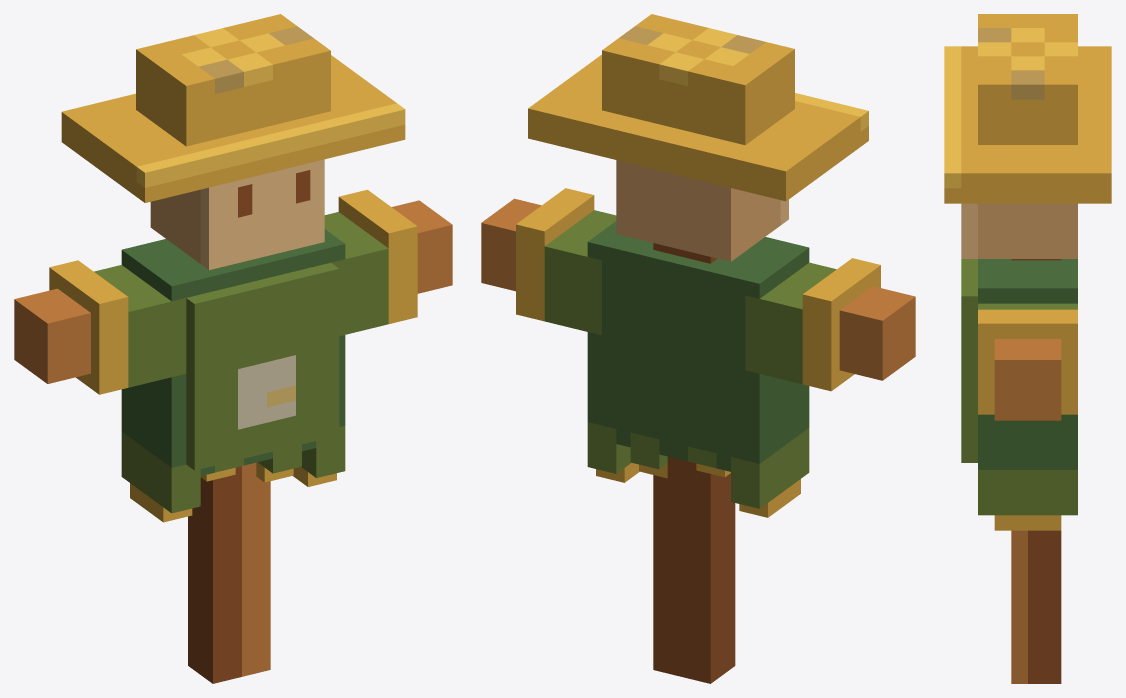
Rendered from Scarecrow_1x1.fbx.
3 views of the same model, side by side, from view 1: azimuth 30°, elevation 25°; view 2: azimuth 150°, elevation 25°; view 3: azimuth 270°, elevation 25° (orthographic).
Visible parts, largest first — view 1: shirt_front, wide_straw_hat, green_shirt, sleeve_cuffs, single_pole, straw_hat_pixels, square_face, wooden_hands, hat_crown, hat_brim_sun, ragged_hem, left_sleeve (+6 smaller); view 2: green_shirt, wide_straw_hat, single_pole, square_head, sleeve_cuffs, straw_hat_pixels, wooden_hands, hat_crown, ragged_hem, left_sleeve, right_sleeve, straw_hem (+1 smaller); view 3: wide_straw_hat, green_shirt, straw_hat_pixels, square_head, sleeve_cuffs, wooden_hands, single_pole, hat_crown, ragged_hem, shirt_front, pole_sun, hat_brim_sun (+3 smaller).
Boxes of the visible parts, x1,y1,x2,y2 form: shirt_front: (186, 262, 339, 470); wide_straw_hat: (61, 55, 405, 202); green_shirt: (121, 229, 345, 475); sleeve_cuffs: (49, 189, 417, 394); single_pole: (188, 466, 241, 683); straw_hat_pixels: (136, 14, 330, 100); square_face: (200, 159, 324, 270); wooden_hands: (14, 200, 452, 383); hat_crown: (136, 64, 330, 146); hat_brim_sun: (136, 103, 405, 187); ragged_hem: (121, 426, 345, 513); left_sleeve: (94, 265, 186, 387); green_shirt: (587, 221, 809, 471); wide_straw_hat: (528, 54, 868, 201); single_pole: (653, 243, 735, 683); square_head: (616, 160, 780, 261); sleeve_cuffs: (516, 188, 880, 391); straw_hat_pixels: (602, 14, 794, 100); wooden_hands: (481, 198, 915, 380); hat_crown: (602, 64, 794, 145); ragged_hem: (587, 422, 809, 508); left_sleeve: (745, 262, 836, 384); right_sleeve: (544, 210, 616, 335); straw_hem: (596, 463, 800, 517); wide_straw_hat: (944, 46, 1111, 203); green_shirt: (978, 259, 1077, 469); straw_hat_pixels: (978, 14, 1077, 99); square_head: (978, 203, 1077, 258); sleeve_cuffs: (978, 309, 1077, 414); wooden_hands: (994, 339, 1061, 420); single_pole: (1011, 259, 1061, 683); hat_crown: (978, 99, 1077, 144); ragged_hem: (978, 470, 1077, 515); shirt_front: (961, 259, 977, 462); pole_sun: (1011, 530, 1027, 683); hat_brim_sun: (944, 46, 961, 188).
Size of the model in its own units: 140 by 205 by 50.
